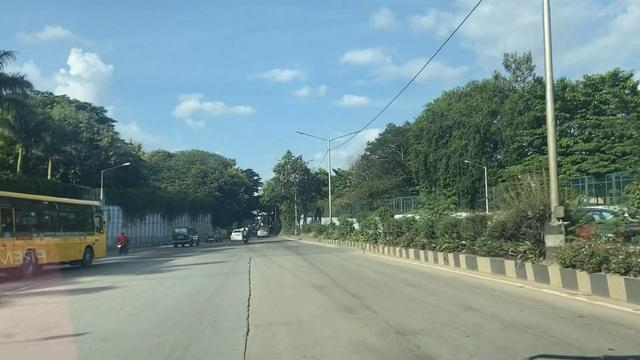RoadDamages: (237, 257, 257, 355)
